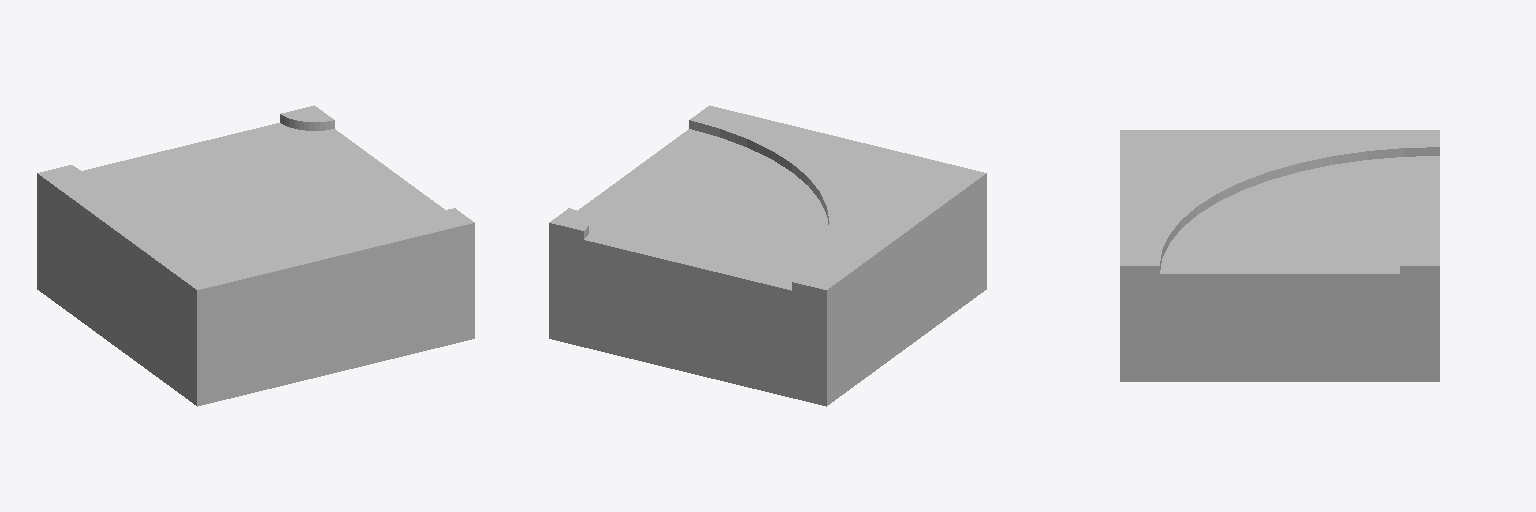
File: tile_095.obj
The picture shows the model from 3 angles: view 1: azimuth 30°, elevation 25°; view 2: azimuth 150°, elevation 25°; view 3: azimuth 270°, elevation 25°; orthographic projection.
Visible parts, largest first — view 1: tile_095; view 2: tile_095; view 3: tile_095.
Part boxes in pixels (x1,y1,x2,y2): tile_095: (37, 105, 474, 406); tile_095: (549, 105, 986, 406); tile_095: (1120, 130, 1439, 381).
Bounding box in the file's own units: 1 × 0.4 × 1.